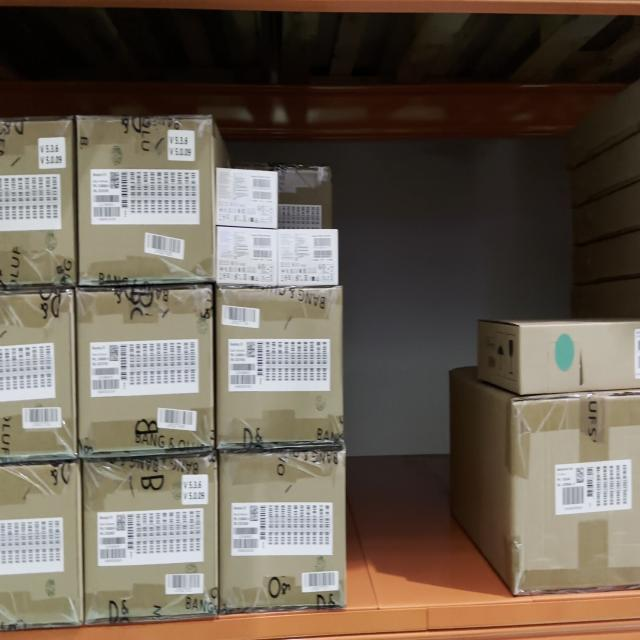box: (80, 288, 212, 452), (76, 119, 212, 278), (83, 461, 216, 612), (215, 288, 342, 446), (219, 456, 347, 608), (278, 230, 339, 286), (215, 172, 278, 224), (215, 232, 277, 283)
